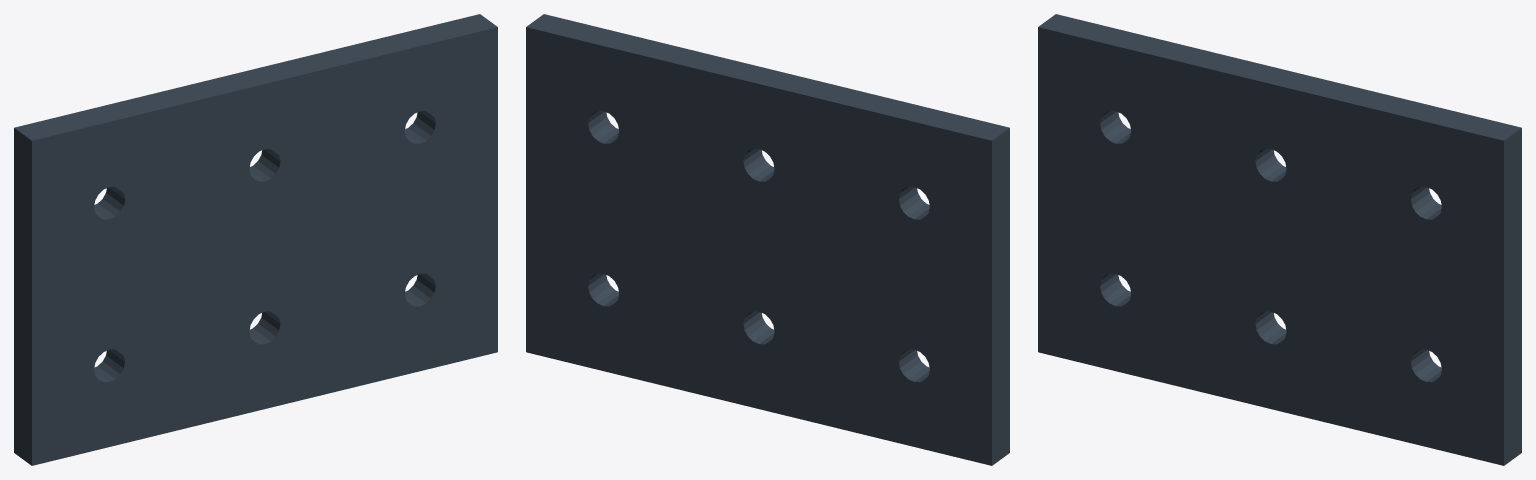
File: kit_plate_60_40.obj
3 views of the same model, side by side, from view 1: azimuth 30°, elevation 25°; view 2: azimuth 150°, elevation 25°; view 3: azimuth 330°, elevation 25° (orthographic).
Parts seen in each view (by area): view 1: kit_plate_60_40; view 2: kit_plate_60_40; view 3: kit_plate_60_40.
Part boxes in pixels (x1,y1,x2,y2): kit_plate_60_40: (14,14,497,465); kit_plate_60_40: (526,14,1009,465); kit_plate_60_40: (1038,14,1521,465).
Size of the model in its own units: 0.06 by 0.04 by 0.004.
